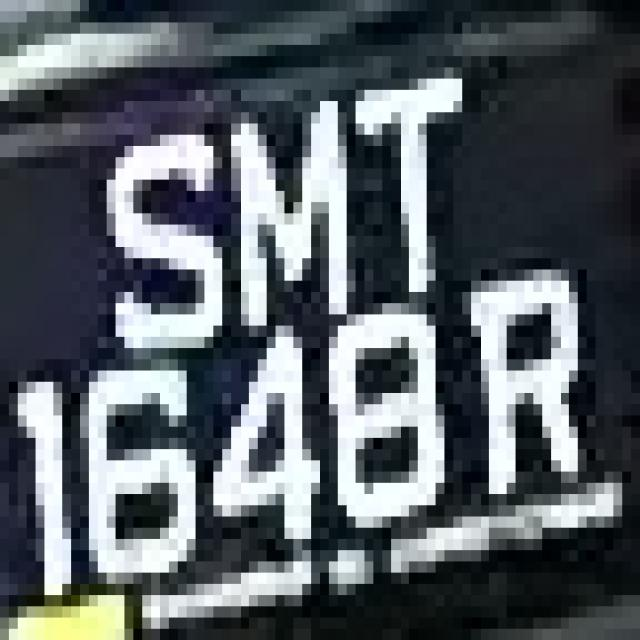1: (18, 325, 98, 640)
4: (195, 303, 329, 573)
6: (71, 337, 196, 617)
8: (338, 292, 453, 573)
M: (214, 78, 374, 336)
R: (444, 258, 622, 528)
S: (80, 124, 222, 382)
T: (338, 56, 489, 281)
